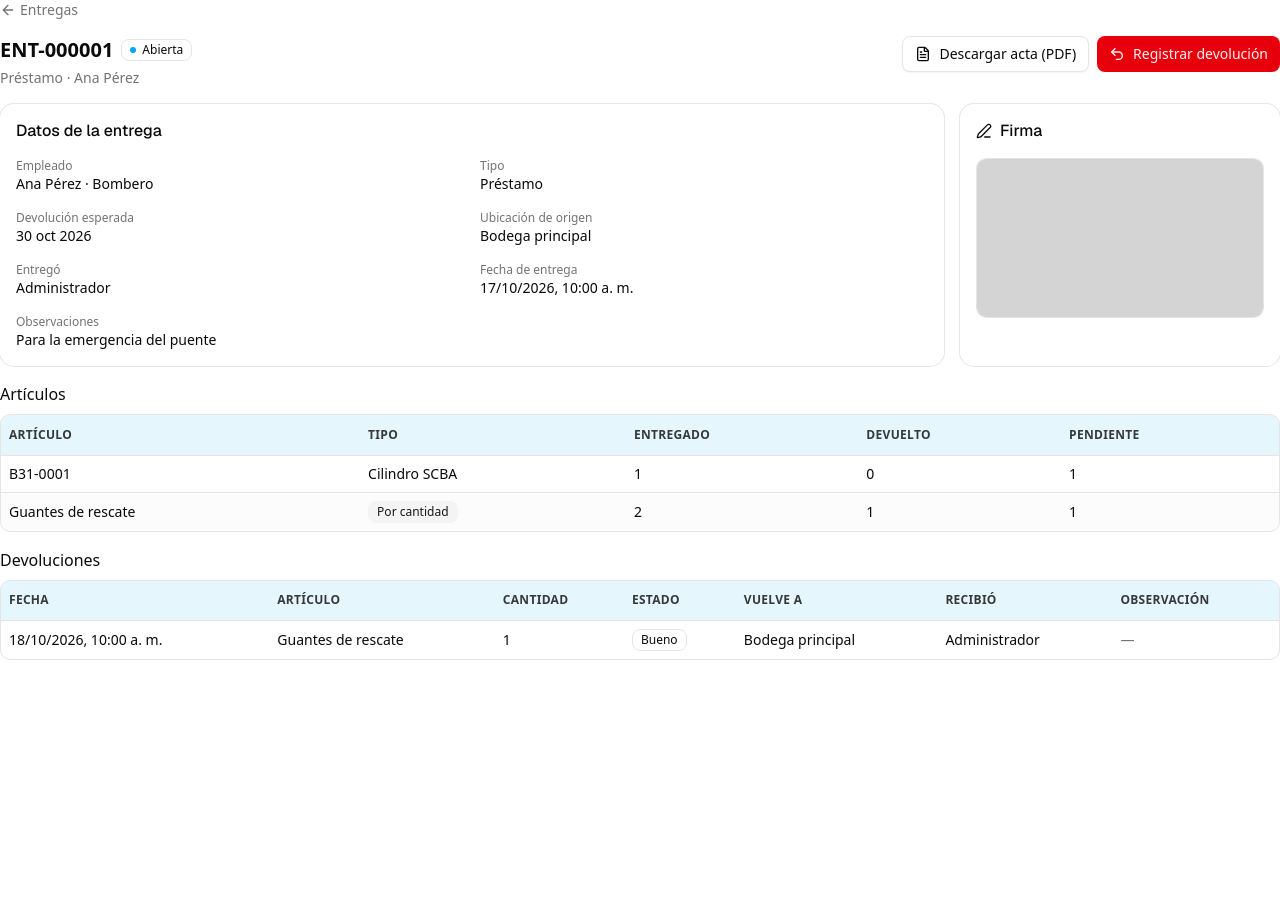
Test: DeliveryDetailScreen (/entregas/[id], 007 US2, US3) › explica los efectos de cada estado (RN-026, RN-038)
Click the button "Registrar devolución". click: (1189, 54)
box: [1097,36,1279,72]
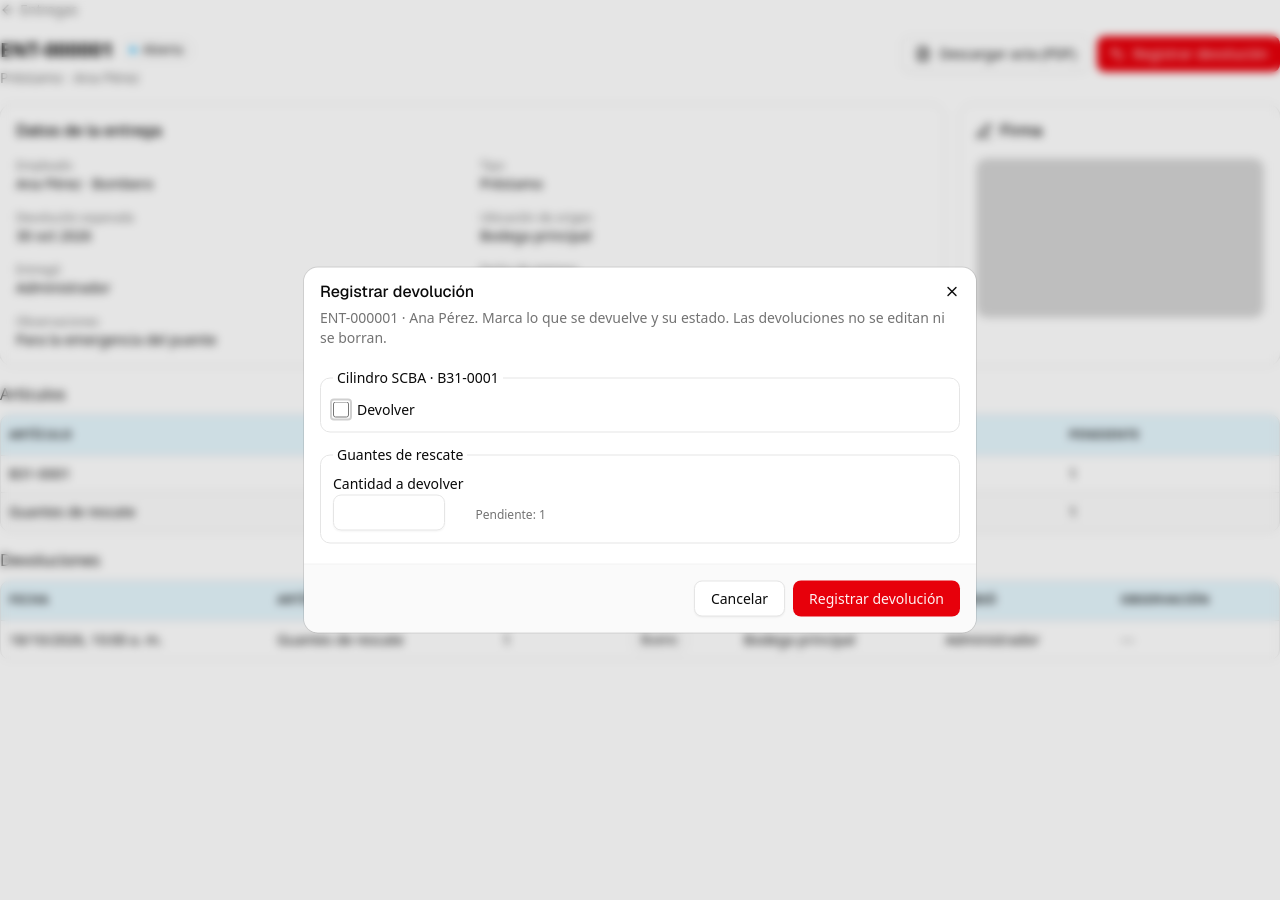
Click the checkbox labelled "Devolver". click: (341, 410)
box: [333,402,349,418]
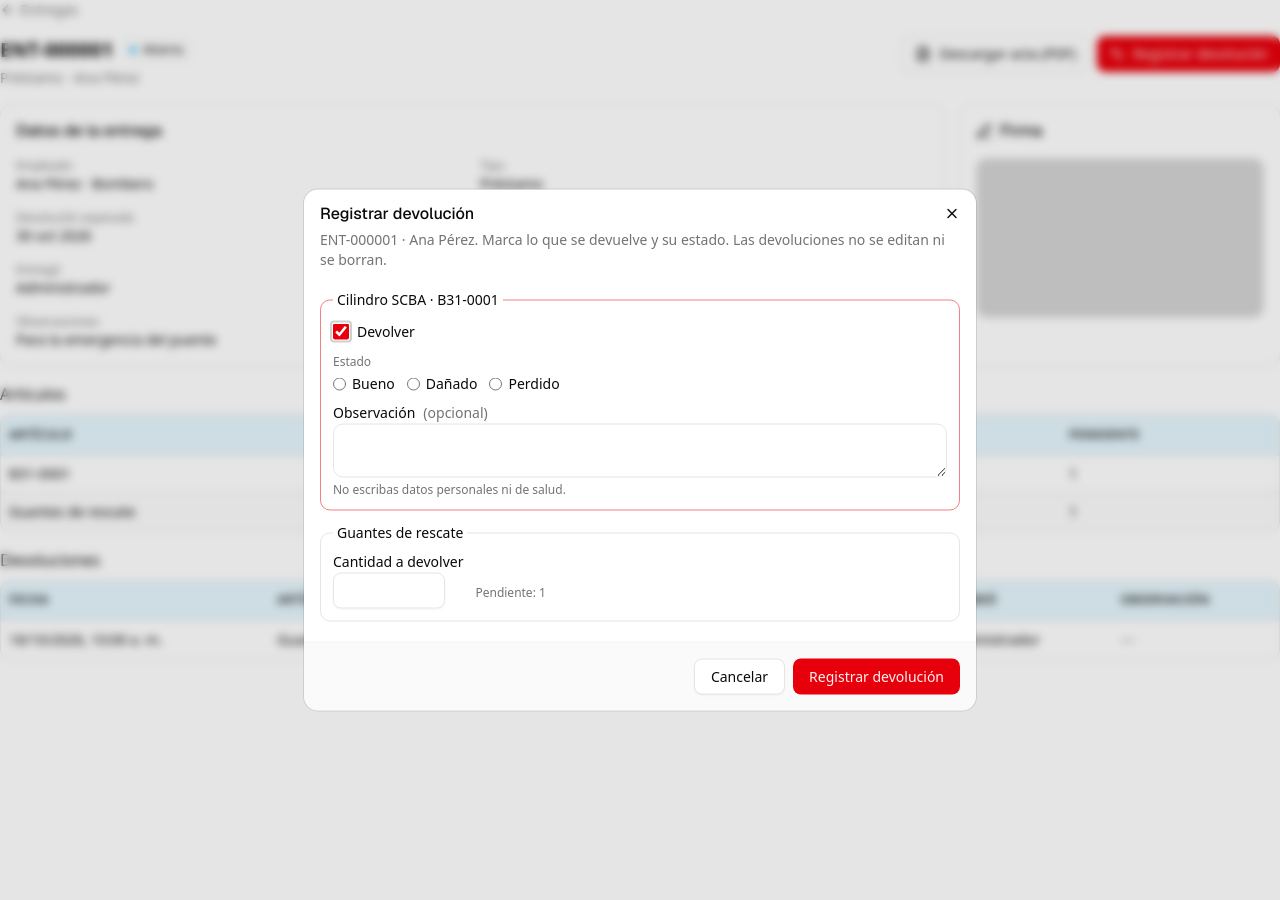
Click the radio button labelled "Dañado". click: (413, 384)
box: [407,377,420,390]
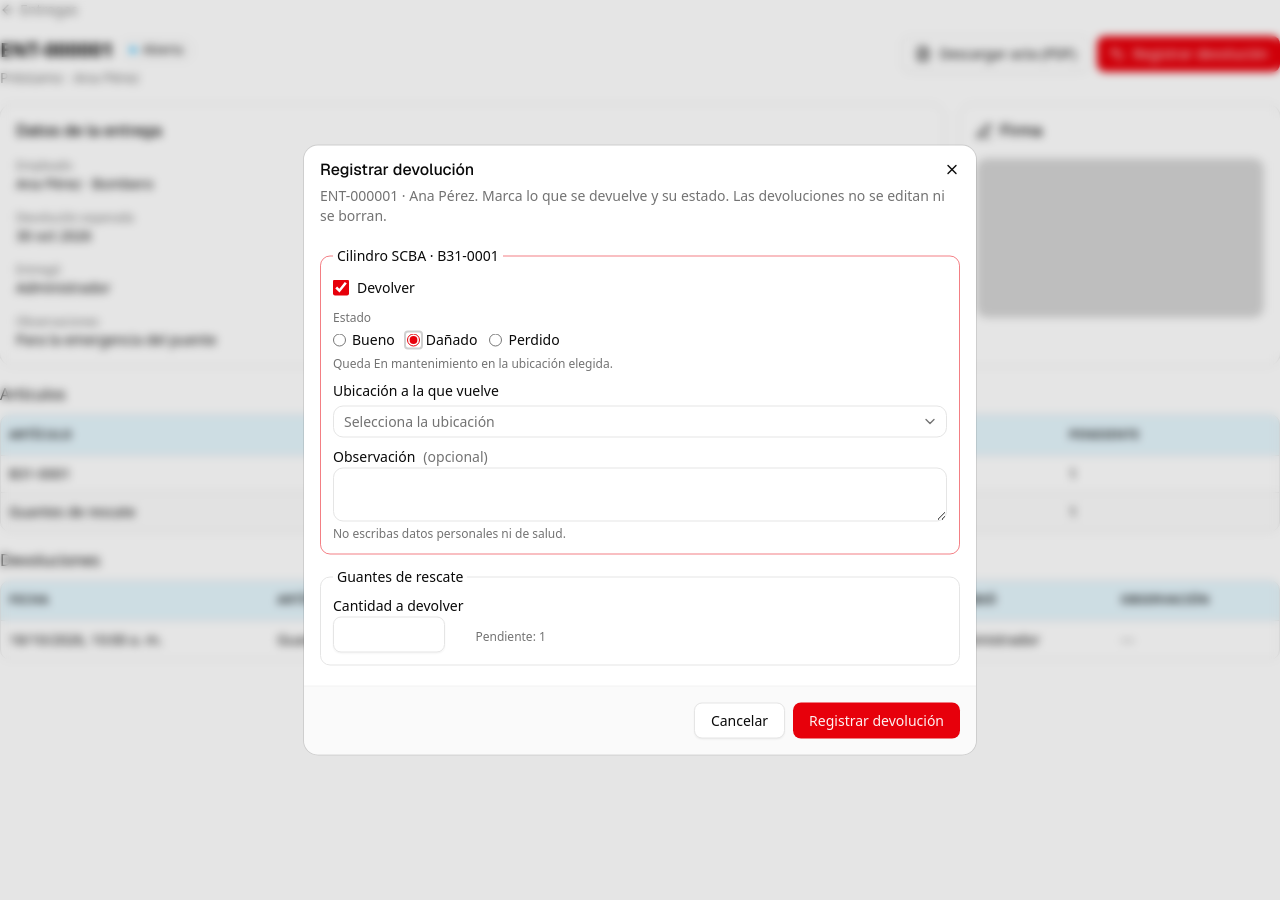
Check: the text "Queda En mantenimiento en la ubicación elegida." is shown, box [333,354,613,372]
Click the radio button labelled "Perdido". click: (496, 340)
box: [490,333,502,346]
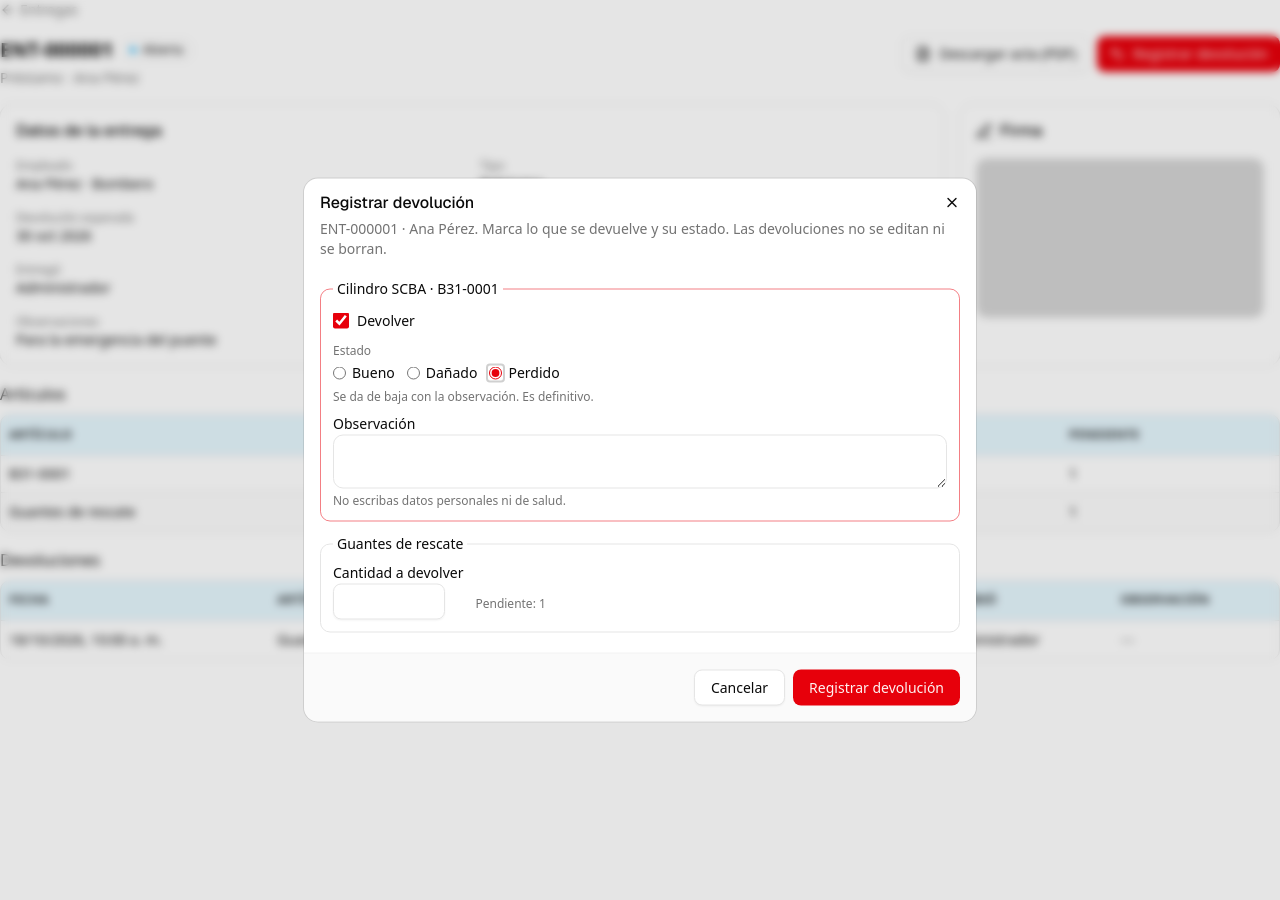
Check: the text "Se da de baja con la observación. Es definitivo." is shown, box [333,388,594,404]
Check: the label "Ubicación a la que vuelve" is gone
Type "1" into the number field labelled "Cantidad a devolver". click: (389, 602)
box: [333,584,445,620]
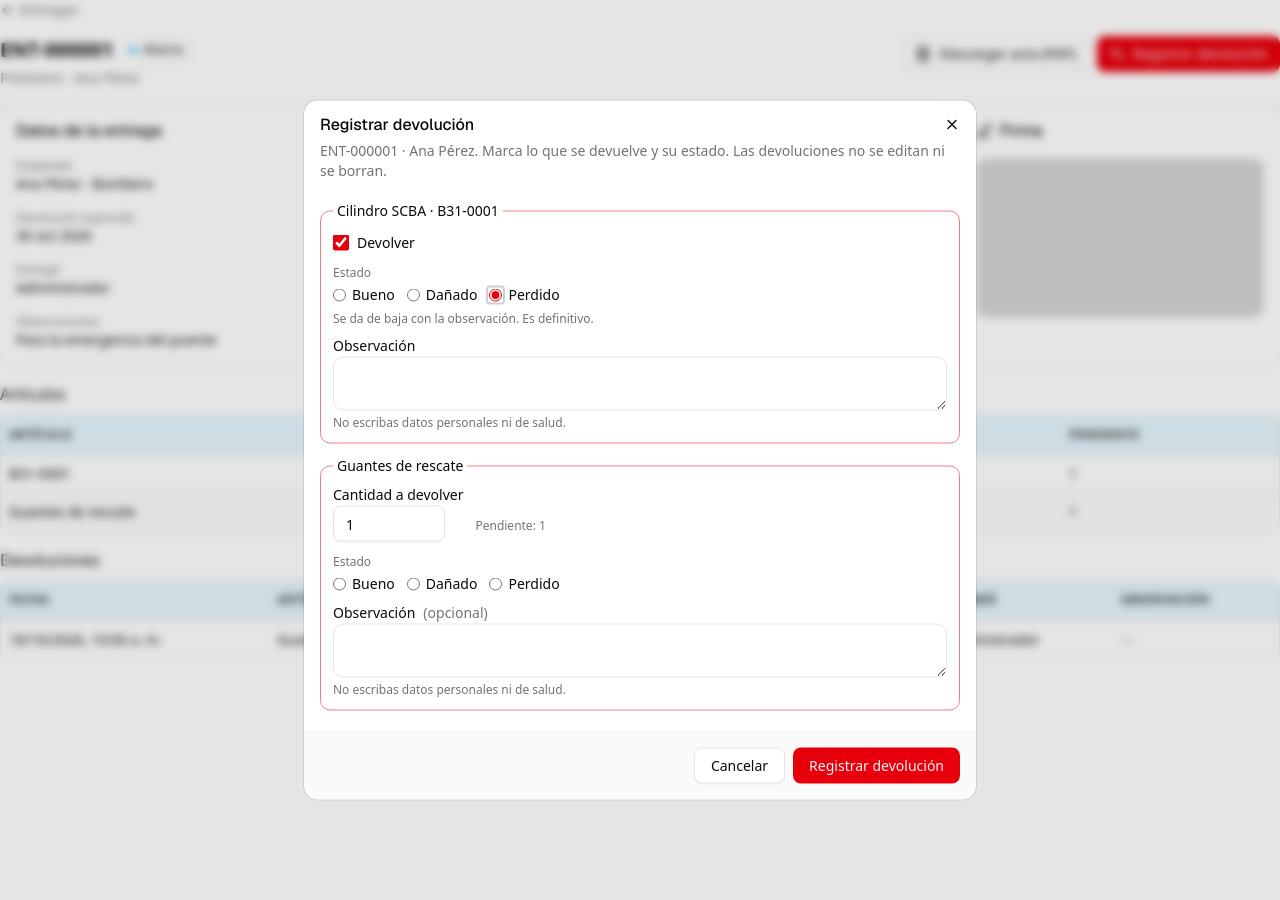
Click the radio button labelled "Dañado" below "Pendiente:". click: (413, 584)
box: [407,577,420,590]
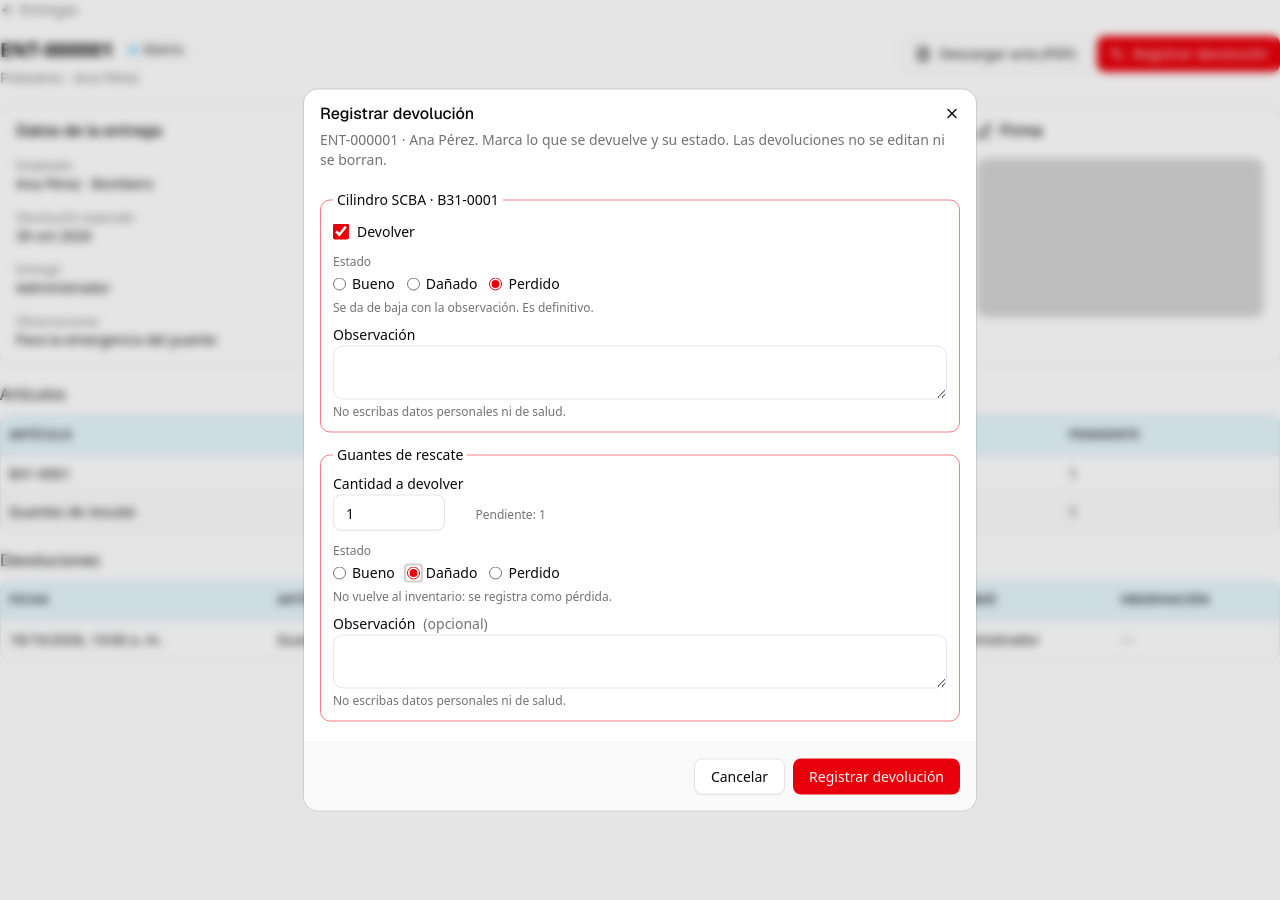
Check: the label "Ubicación a la que vuelve" is not shown
Check: the text "No vuelve al inventario: se registra como pérdida." is shown, box [333,588,612,604]
